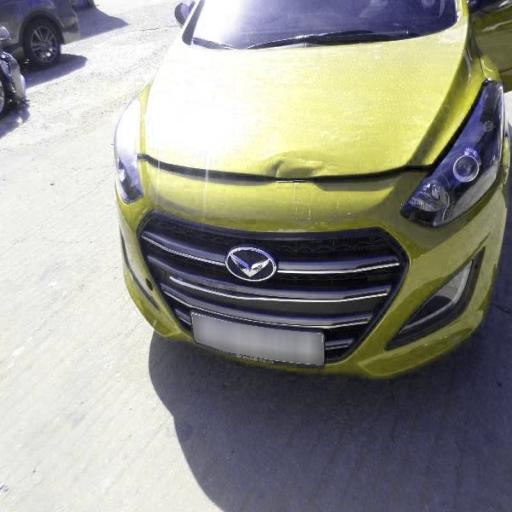dent: (213, 109, 381, 251)
